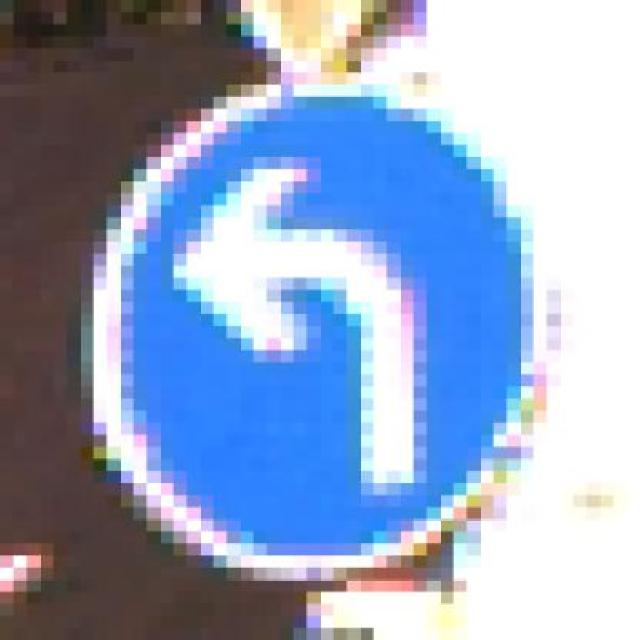Turn left ahead: (80, 85, 574, 580)
